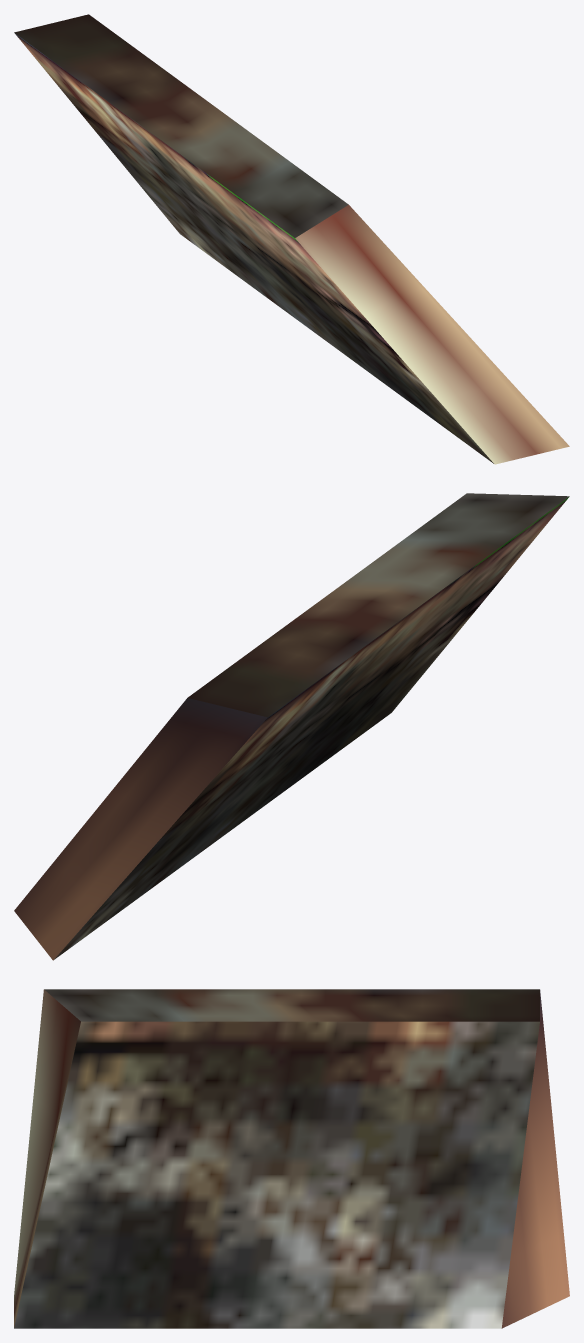
Rendered from USA - Base Infrastructure - Power Plant - Damage State 01 - ABPWRPLANT_d01.glb.
The picture shows the model from 3 angles, top to bottom: view 1: azimuth 30°, elevation 25°; view 2: azimuth 150°, elevation 25°; view 3: azimuth 270°, elevation 25°; orthographic projection. The views are drawn at different scales.
Parts seen in each view (by area): view 1: ABPWRPLANT_D01; view 2: ABPWRPLANT_D01; view 3: ABPWRPLANT_D01.
Boxes of the visible parts, x1,y1,x2,y2 form: ABPWRPLANT_D01: [14, 14, 569, 464]; ABPWRPLANT_D01: [14, 493, 569, 960]; ABPWRPLANT_D01: [14, 989, 569, 1328].
Bounding box in the file's own units: 2.6 × 2.5 × 5.51.
Materials: 1 (1 with a texture image).
